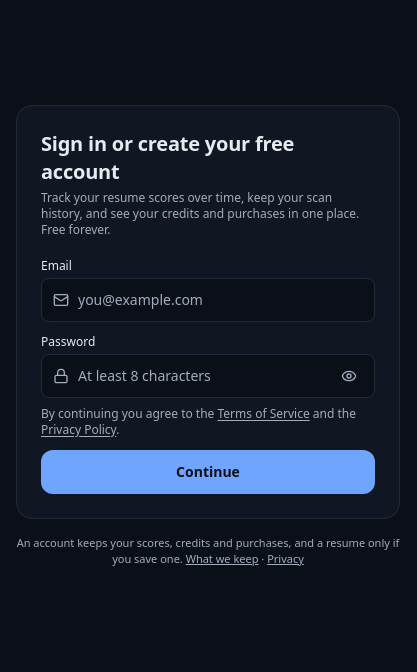
Test: the password path: sign in first, a new account only when asked › a password too short for a new account is said at the offer, and no sign-up leaves
In the field labelled "Email": (208, 300) left=41, top=278, right=375, bottom=322, type "old@example.com"
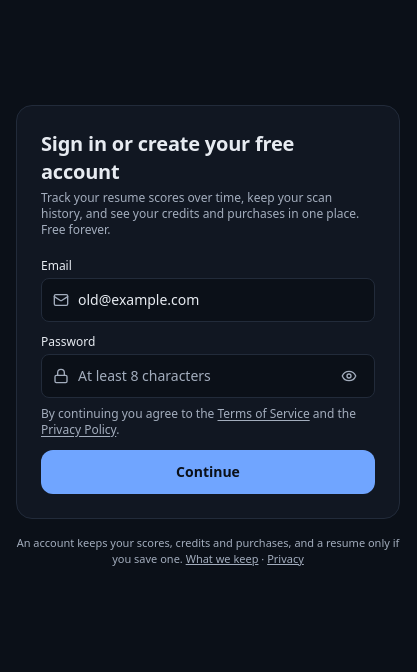
In the password field labelled "Password": (208, 376) left=41, top=354, right=375, bottom=398, type "short"
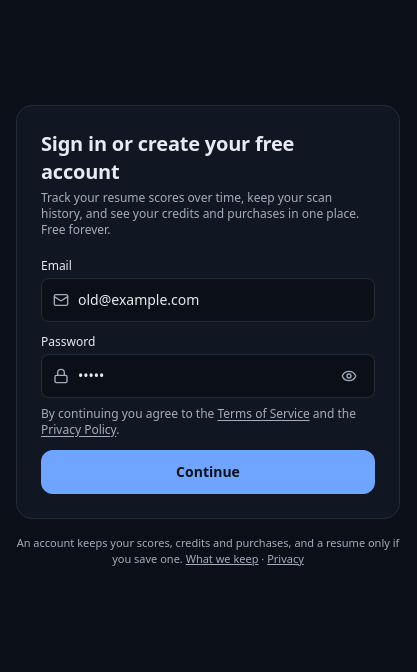
Click the button "Continue": (208, 472) left=41, top=450, right=375, bottom=494
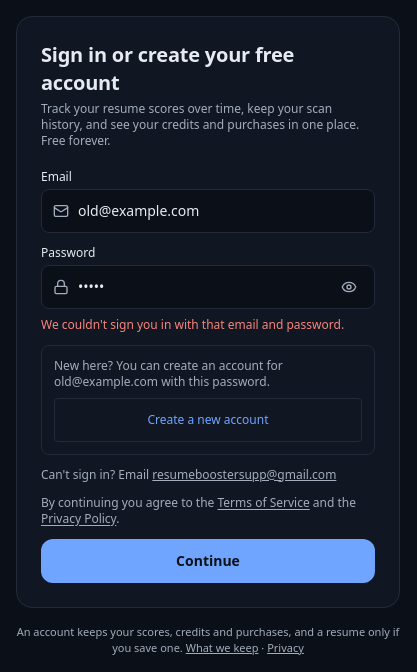
Click the button "Create a new account": (208, 420) left=54, top=398, right=362, bottom=442
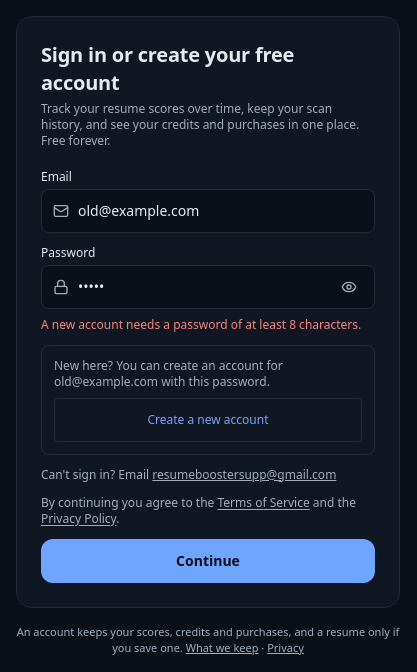
Result: the message reads "A new account needs a password of at least 8 characters." at left=41, top=316, right=361, bottom=332
